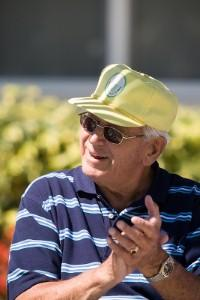person: (5, 64, 200, 300)
